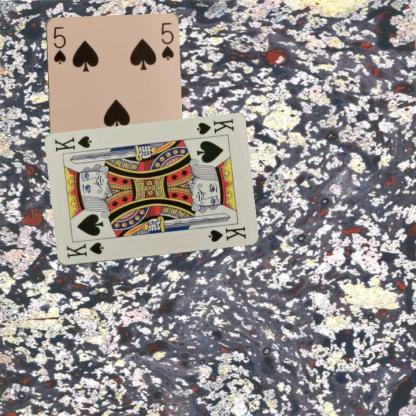5s: (50, 24, 67, 64)
Ks: (193, 116, 235, 136), (64, 240, 105, 260)
